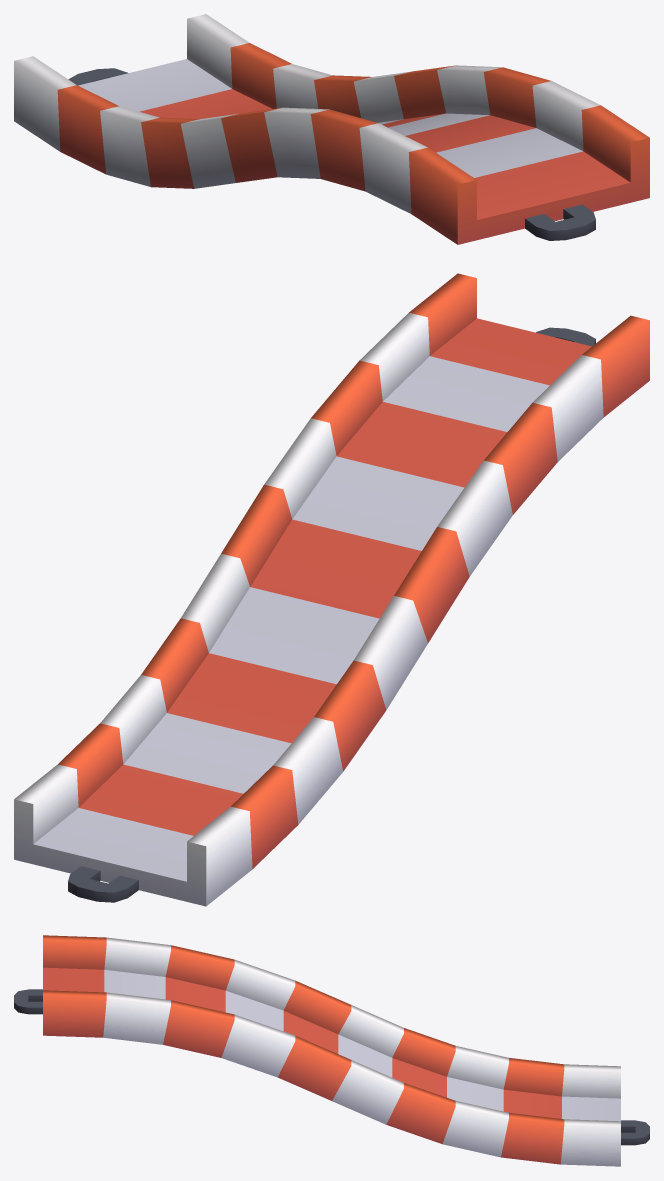
The model's file is track-striped-narrow-straight-hill-complete.glb.
The picture shows the model from 3 angles, top to bottom: view 1: azimuth 30°, elevation 25°; view 2: azimuth 150°, elevation 25°; view 3: azimuth 270°, elevation 25°; orthographic projection. The views are drawn at different scales.
Visible parts, largest first — view 1: track-striped-narrow-straight-hill-complete; view 2: track-striped-narrow-straight-hill-complete; view 3: track-striped-narrow-straight-hill-complete.
Part boxes in pixels (x1,y1,x2,y2): track-striped-narrow-straight-hill-complete: (14,14,649,244); track-striped-narrow-straight-hill-complete: (14,273,649,906); track-striped-narrow-straight-hill-complete: (14,935,649,1166).
Bounding box in the file's own units: 1 × 1.3 × 4.4.
1 material, 1 textured.
